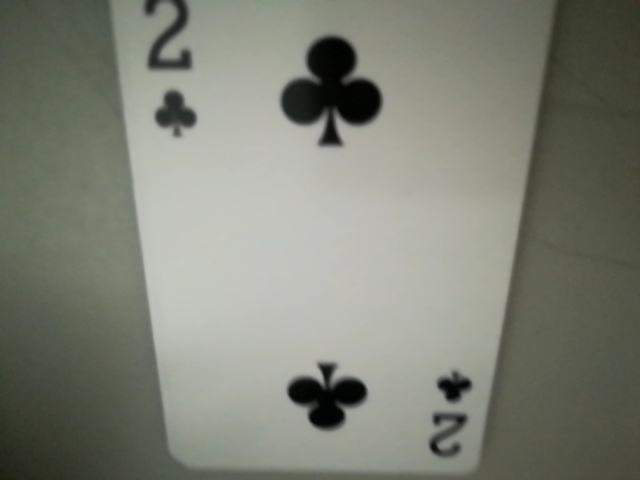mh 2: (125, 0, 207, 156), (421, 364, 480, 466)
